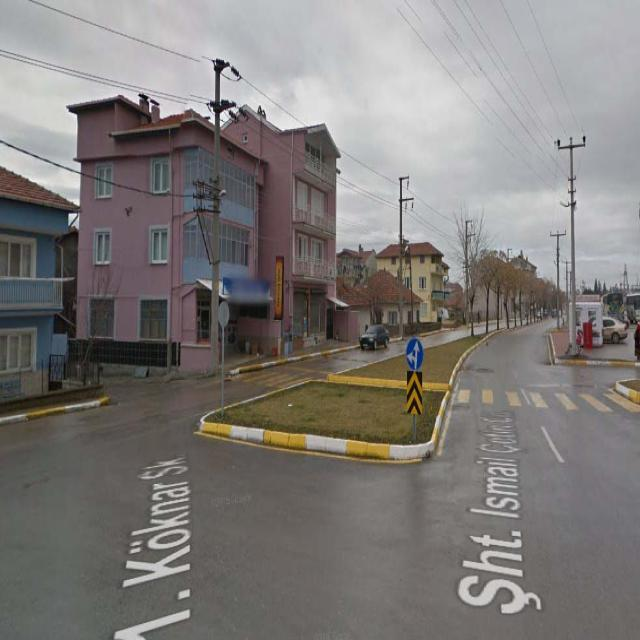ilerisol: (406, 339, 423, 369)
